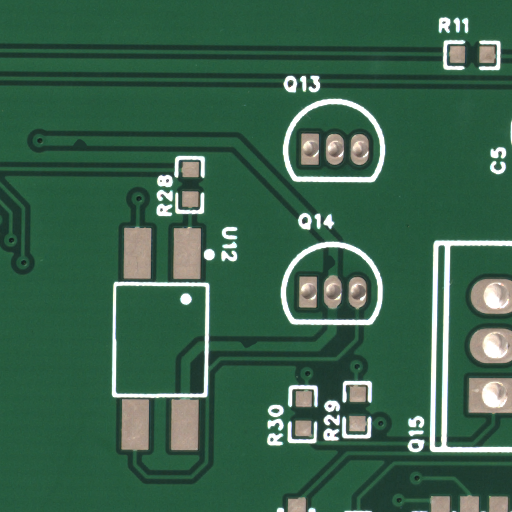Mouse_bite: (249, 344, 270, 354), (330, 261, 341, 279), (80, 142, 97, 151)
